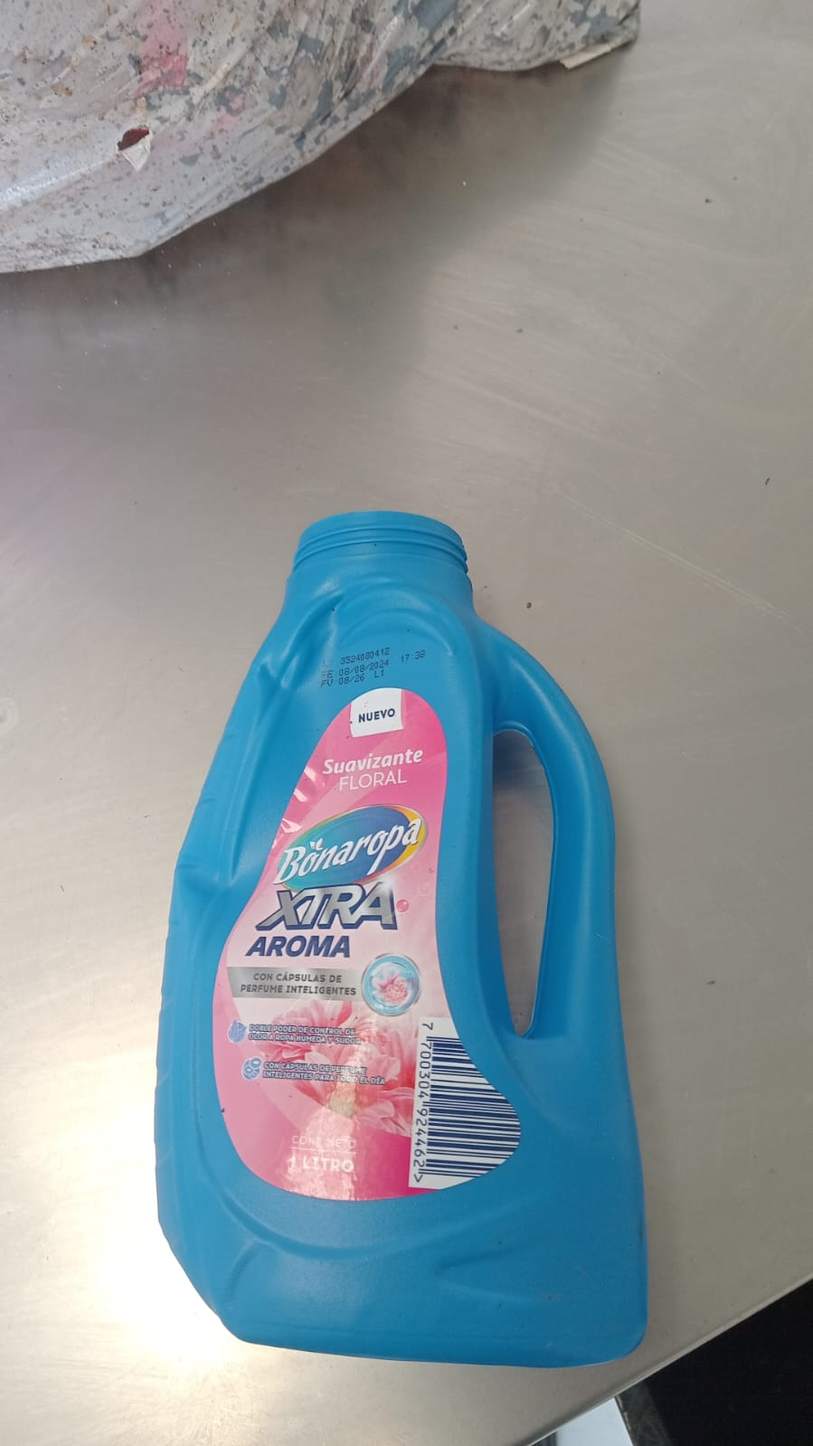Plastico: (157, 514, 651, 1365)
